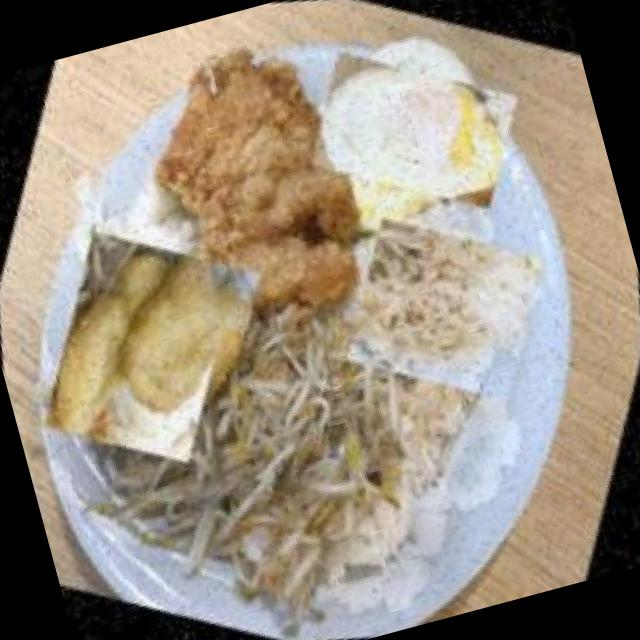chicken_nuggets: (0, 176, 322, 521)
fried_chicken: (63, 0, 480, 397)
fried_eggs: (276, 0, 549, 267)
mung_bean_sprouts: (96, 268, 471, 640)
rice: (302, 166, 588, 450)
